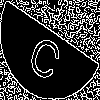C: (25, 25, 68, 84)
